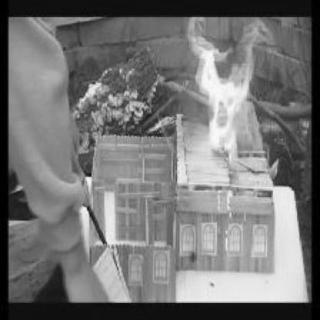Fire: (185, 21, 273, 167)
